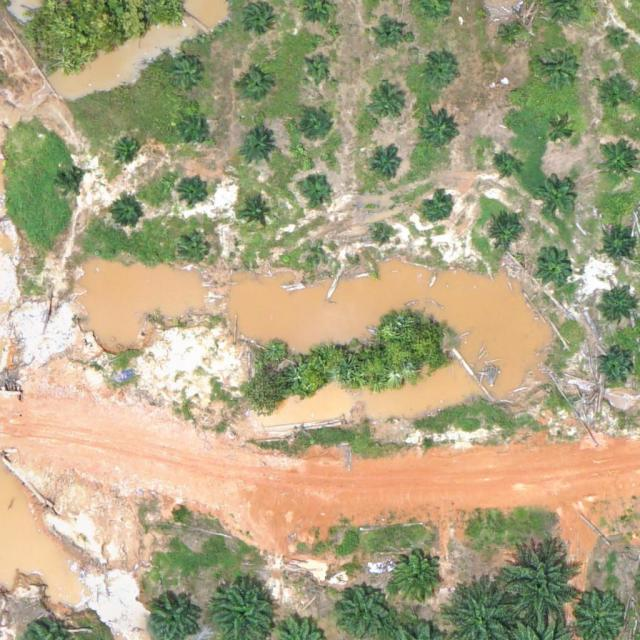Healthy: (503, 543, 581, 622), (389, 551, 444, 606)
Small: (537, 40, 584, 88), (595, 349, 635, 389), (535, 178, 575, 217), (421, 108, 460, 148), (369, 85, 408, 125), (419, 52, 458, 92), (238, 130, 278, 169), (596, 288, 635, 328), (597, 141, 636, 180), (533, 246, 572, 285), (601, 227, 640, 266), (485, 212, 524, 251), (300, 172, 331, 204), (303, 110, 334, 142), (239, 71, 270, 103), (173, 61, 204, 93), (180, 113, 211, 145), (180, 174, 211, 206), (242, 199, 273, 231), (372, 151, 403, 182), (423, 193, 454, 224), (376, 16, 407, 47), (597, 83, 628, 114), (242, 2, 273, 33), (111, 200, 142, 231), (545, 118, 576, 149), (492, 153, 523, 184), (497, 18, 528, 49), (181, 238, 212, 269), (113, 135, 144, 166), (56, 170, 87, 201), (606, 27, 630, 51), (306, 57, 329, 81), (375, 225, 391, 241), (507, 86, 522, 102), (316, 247, 332, 262)
